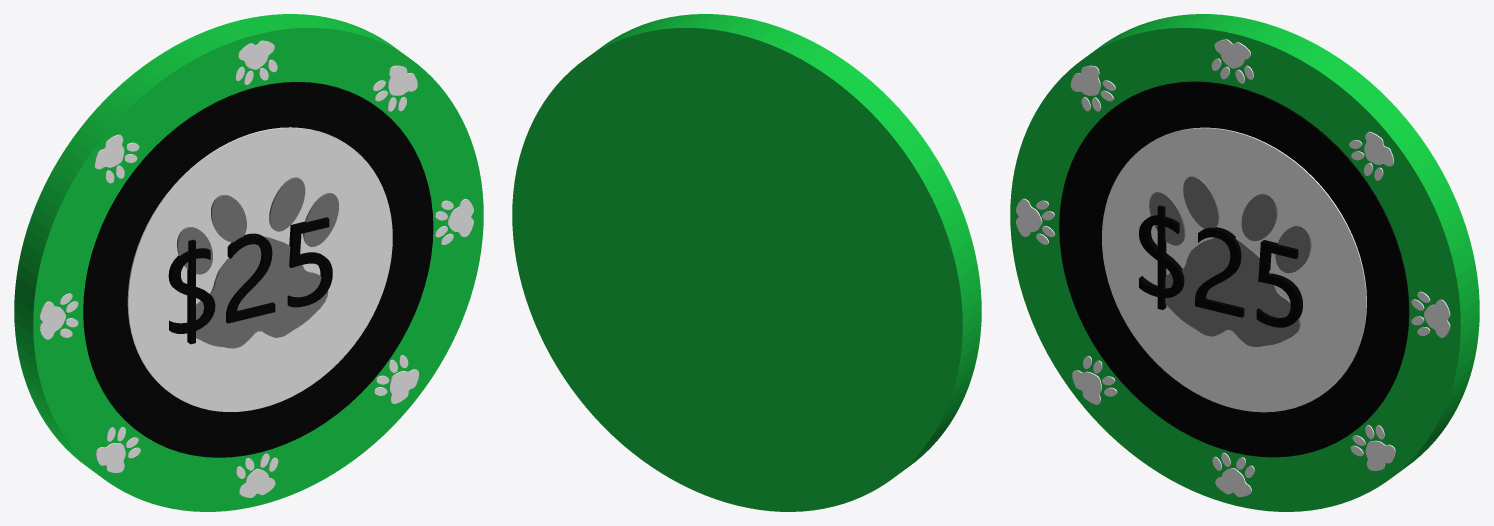
File: Green paw chip.fbx
The picture shows the model from 3 angles, left to right: view 1: azimuth 30°, elevation 25°; view 2: azimuth 150°, elevation 25°; view 3: azimuth 330°, elevation 25°; orthographic projection.
Parts seen in each view (by area): view 1: root (×2), node_id4, node_id258, node_id328, node_id260, node_id215, node_id220, node_id242, node_id161, node_id192, node_id226, node_id231 (+1 smaller); view 2: node_id4; view 3: root (×2), node_id4, node_id258, node_id328, node_id260, node_id226, node_id231, node_id220, node_id215, node_id192, node_id237, node_id161 (+1 smaller).
Boxes of the visible parts, bbox=[...] form: root (×2): bbox=[83, 82, 433, 457]; node_id4: bbox=[14, 14, 483, 511]; node_id258: bbox=[196, 236, 328, 348]; node_id328: bbox=[168, 217, 332, 344]; node_id260: bbox=[177, 177, 338, 274]; node_id215: bbox=[94, 134, 124, 169]; node_id220: bbox=[389, 369, 419, 403]; node_id242: bbox=[39, 301, 65, 339]; node_id161: bbox=[239, 468, 275, 497]; node_id192: bbox=[238, 40, 274, 69]; node_id226: bbox=[388, 65, 417, 95]; node_id231: bbox=[95, 443, 125, 472]; node_id4: bbox=[512, 14, 981, 511]; root (×2): bbox=[1059, 81, 1409, 457]; node_id4: bbox=[1010, 14, 1479, 511]; node_id258: bbox=[1165, 237, 1300, 346]; node_id328: bbox=[1139, 205, 1302, 327]; node_id260: bbox=[1149, 176, 1311, 273]; node_id226: bbox=[1364, 131, 1394, 166]; node_id231: bbox=[1072, 370, 1101, 404]; node_id220: bbox=[1365, 440, 1395, 470]; node_id215: bbox=[1070, 65, 1100, 95]; node_id192: bbox=[1214, 39, 1250, 68]; node_id237: bbox=[1424, 299, 1450, 337]; node_id161: bbox=[1215, 468, 1251, 497].
Bounding box in the file's own units: 0.5155 × 0.5155 × 0.0476.
8 materials, 5 textured.
